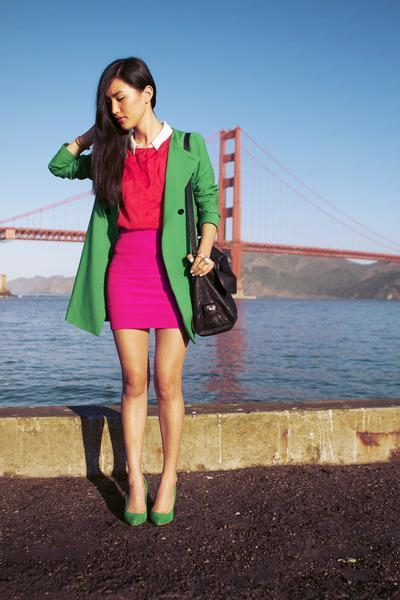bag: (191, 252, 237, 337)
jacket: (48, 132, 219, 346)
shirt: (116, 136, 170, 247)
shoe: (125, 492, 173, 525)
skirt: (108, 231, 177, 328)
